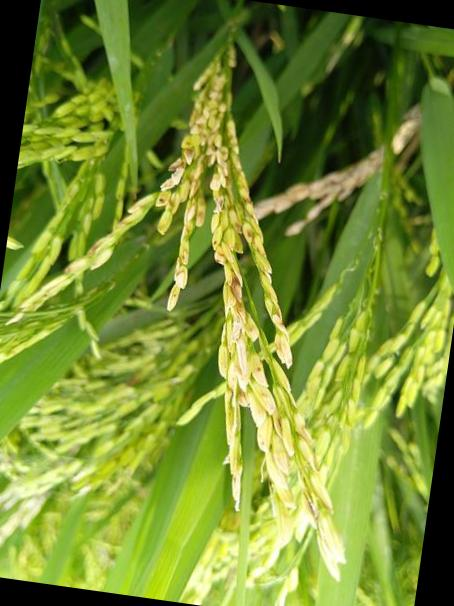Panicle Blight: (218, 276, 346, 580), (210, 195, 272, 282), (83, 194, 151, 265), (169, 199, 207, 308), (189, 48, 231, 143), (206, 134, 240, 198), (166, 143, 200, 191), (270, 304, 293, 366), (153, 189, 178, 234)
